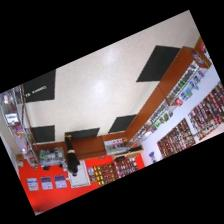person: (64, 134, 77, 173)
